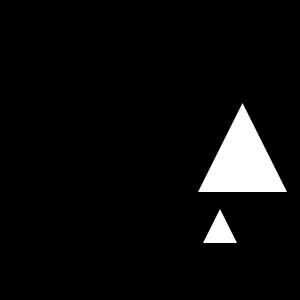triangle: (198, 103, 287, 192), (203, 209, 237, 243)
